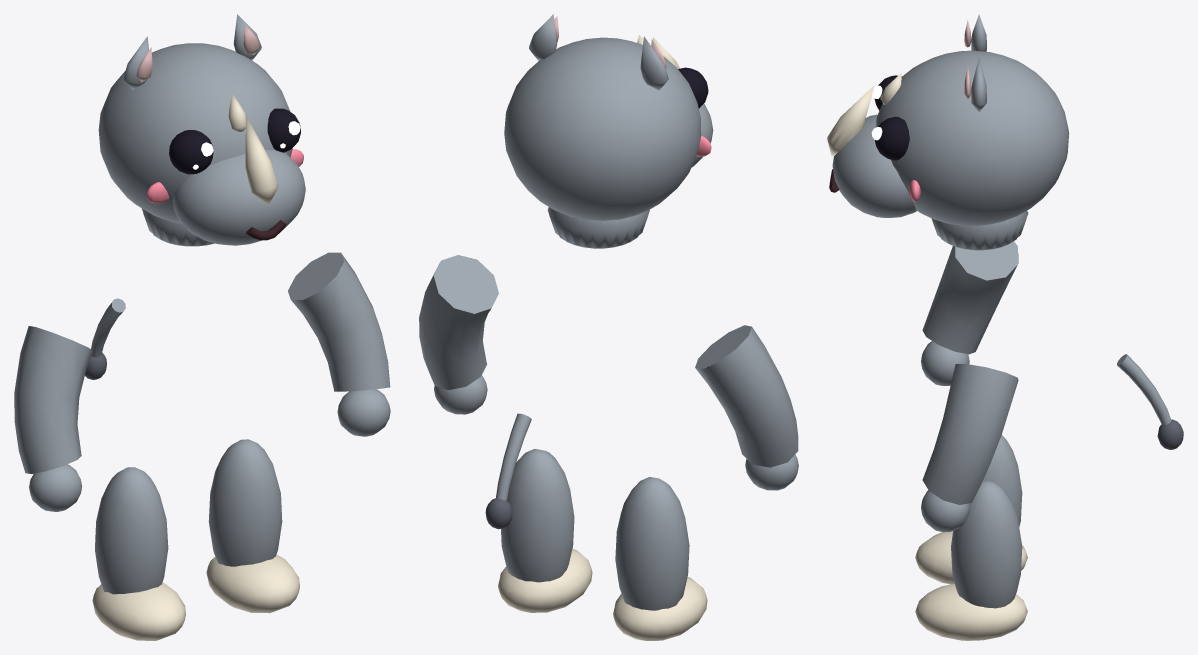
The model's file is tb_dyr_neshorn.glb.
The picture shows the model from 3 angles, left to right: view 1: azimuth 30°, elevation 25°; view 2: azimuth 150°, elevation 25°; view 3: azimuth 270°, elevation 25°; orthographic projection. The views are drawn at different scales.
Parts seen in each view (by area): view 1: hode, bein_vf, bein_hf, vinge_h, vinge_v, hale; view 2: hode, bein_vf, bein_hf, vinge_v, vinge_h, hale; view 3: hode, bein_hf, vinge_h, vinge_v, bein_vf, hale.
Boxes of the visible parts, bbox=[...] form: hode: bbox=[98, 14, 305, 246]; bein_vf: bbox=[92, 467, 185, 640]; bein_hf: bbox=[206, 439, 299, 613]; vinge_h: bbox=[288, 252, 390, 436]; vinge_v: bbox=[14, 326, 93, 511]; hale: bbox=[85, 298, 125, 379]; hode: bbox=[504, 14, 713, 248]; bein_vf: bbox=[613, 477, 707, 640]; bein_hf: bbox=[498, 449, 592, 612]; vinge_v: bbox=[695, 325, 798, 490]; vinge_h: bbox=[419, 255, 498, 414]; hale: bbox=[485, 413, 531, 529]; hode: bbox=[827, 14, 1069, 250]; bein_hf: bbox=[915, 480, 1027, 640]; vinge_h: bbox=[921, 364, 1018, 531]; vinge_v: bbox=[921, 241, 1018, 385]; bein_vf: bbox=[915, 435, 1027, 584]; hale: bbox=[1117, 354, 1183, 449].
Size of the model in its own units: 1.08 by 1.68 by 0.9492.
